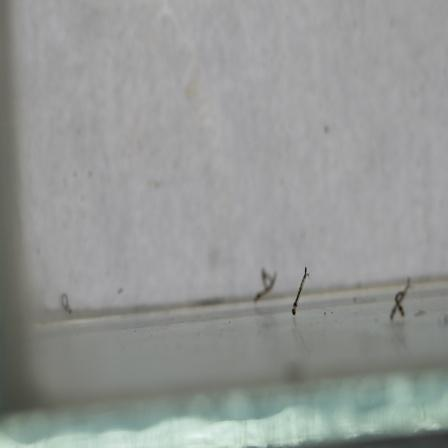Jentik-Nyamuk: (288, 264, 313, 320), (385, 275, 413, 324)
